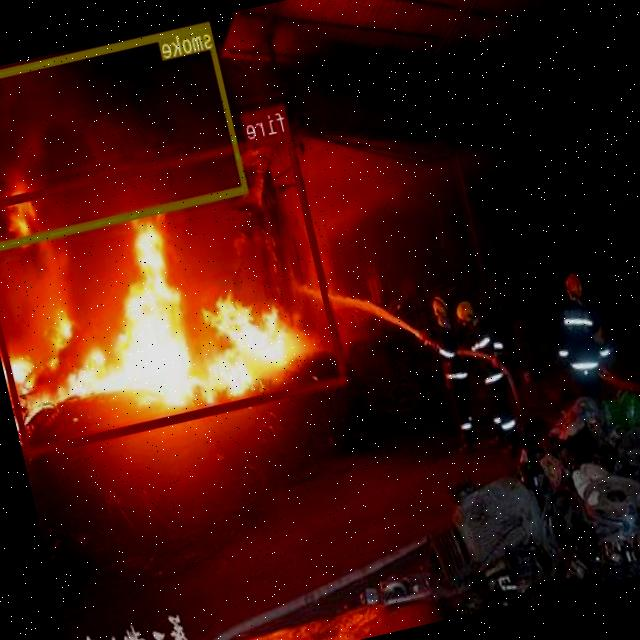fire: (0, 130, 347, 455)
smoke: (0, 19, 249, 249)
